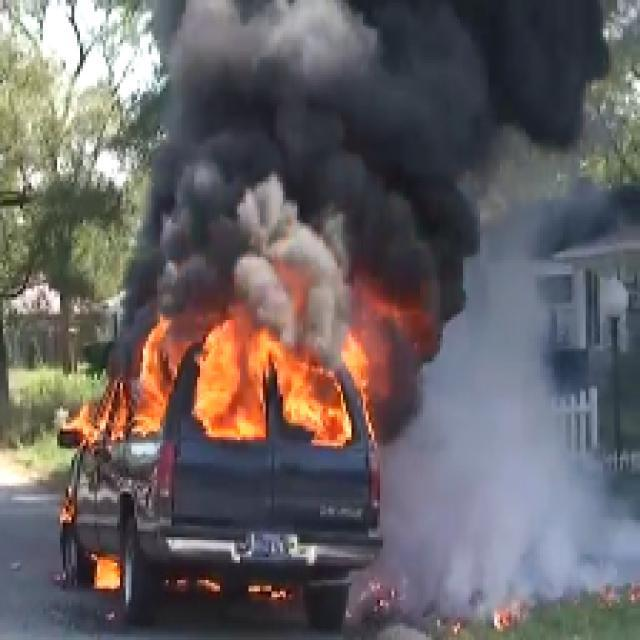Fire: (156, 298, 398, 448)
Smoke: (150, 0, 514, 293)
